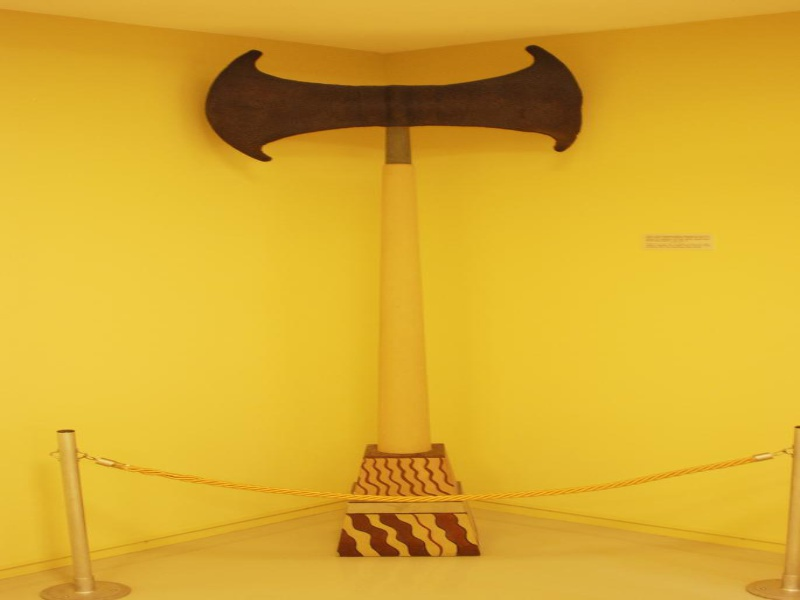axe: (194, 41, 610, 315)
